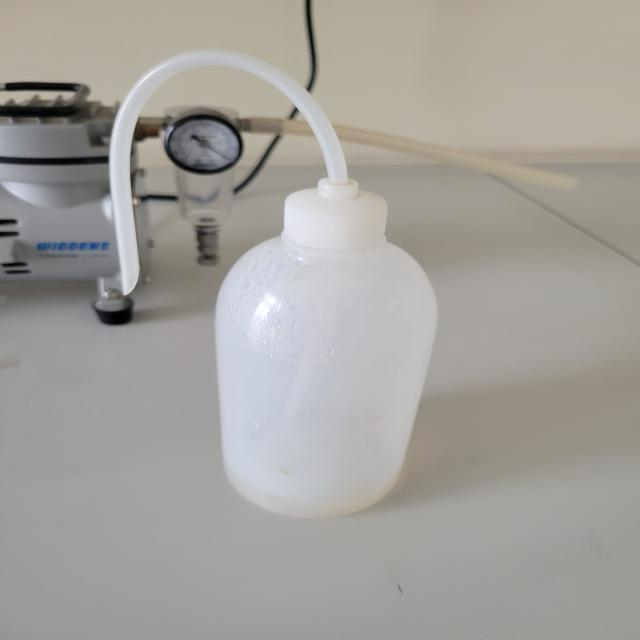Wash_Bottle: (70, 34, 500, 552)
